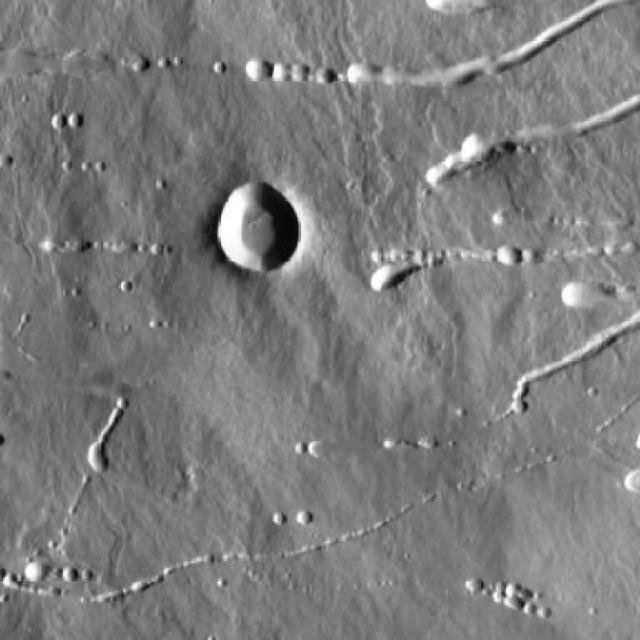crater: (213, 184, 301, 270)
